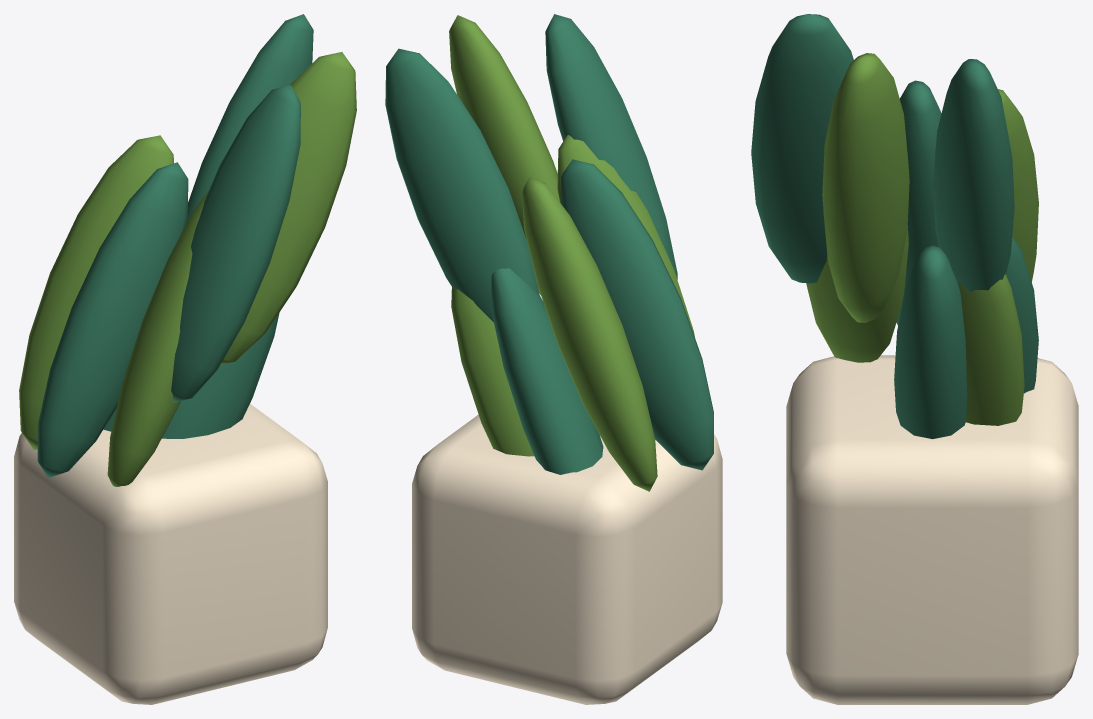
Rendered from plant.glb.
The picture shows the model from 3 angles, left to right: view 1: azimuth 30°, elevation 25°; view 2: azimuth 150°, elevation 25°; view 3: azimuth 270°, elevation 25°; orthographic projection. The views are drawn at different scales.
Visible parts, largest first — view 1: Ceramic planter, Broad leaf.004, Broad leaf.002, Broad leaf.005, Broad leaf.001, Broad leaf.007, Broad leaf.008, Broad leaf; view 2: Ceramic planter, Broad leaf.008, Broad leaf.004, Broad leaf.001, Broad leaf.006, Broad leaf.002, Broad leaf.005, Broad leaf.003, Broad leaf.007; view 3: Ceramic planter, Broad leaf.005, Broad leaf.002, Broad leaf.008, Broad leaf, Broad leaf.003, Broad leaf.004, Broad leaf.007, Broad leaf.001, Broad leaf.006.
Part boxes in pixels (x1=…): Ceramic planter: x1=14, y1=404, x2=327, y2=704; Broad leaf.004: x1=37, y1=162, x2=188, y2=477; Broad leaf.002: x1=171, y1=85, x2=300, y2=402; Broad leaf.005: x1=220, y1=52, x2=356, y2=364; Broad leaf.001: x1=19, y1=135, x2=173, y2=449; Broad leaf.007: x1=107, y1=189, x2=209, y2=486; Broad leaf.008: x1=186, y1=14, x2=313, y2=224; Broad leaf: x1=162, y1=313, x2=279, y2=438; Ceramic planter: x1=412, y1=414, x2=722, y2=704; Broad leaf.008: x1=385, y1=48, x2=539, y2=322; Broad leaf.004: x1=561, y1=159, x2=713, y2=470; Broad leaf.001: x1=522, y1=176, x2=657, y2=491; Broad leaf.006: x1=491, y1=268, x2=603, y2=474; Broad leaf.002: x1=545, y1=14, x2=677, y2=279; Broad leaf.005: x1=449, y1=15, x2=559, y2=295; Broad leaf.003: x1=451, y1=287, x2=534, y2=456; Broad leaf.007: x1=557, y1=135, x2=694, y2=336; Ceramic planter: x1=786, y1=355, x2=1078, y2=704; Broad leaf.005: x1=822, y1=53, x2=909, y2=322; Broad leaf.002: x1=751, y1=14, x2=853, y2=283; Broad leaf.008: x1=933, y1=59, x2=1014, y2=291; Broad leaf: x1=894, y1=245, x2=967, y2=439; Broad leaf.003: x1=958, y1=274, x2=1024, y2=425; Broad leaf.004: x1=896, y1=80, x2=941, y2=325; Broad leaf.007: x1=806, y1=225, x2=908, y2=362; Broad leaf.001: x1=998, y1=89, x2=1038, y2=281; Broad leaf.006: x1=1006, y1=237, x2=1038, y2=393.
Bounding box in the file's own units: 0.7812 × 1.47 × 0.6386.
